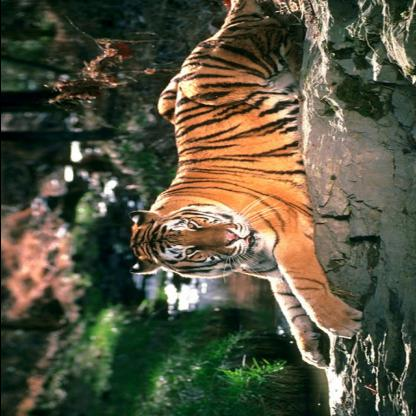tiger: (128, 206, 265, 279)
